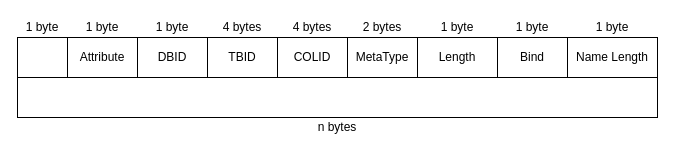
Some shapes in this 675 by 154 pixel diagram are drawn without their labels. Each missing label, with the centre of its shape:
Name: the point at 337,97
Type: the point at 42,57
